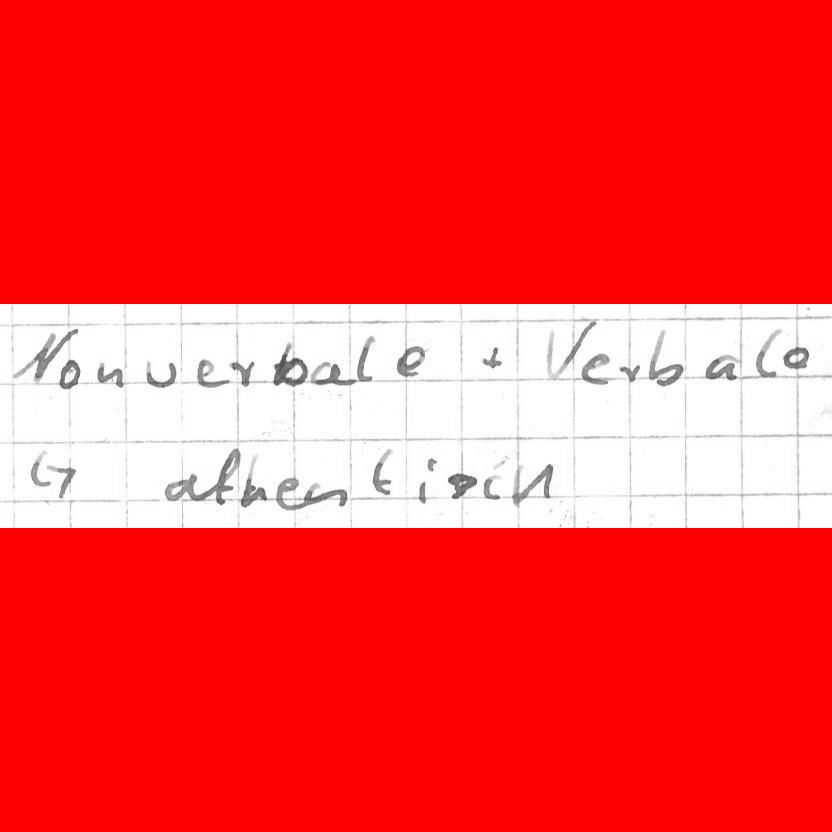Char: (8, 325, 64, 383), (22, 447, 82, 501), (541, 320, 586, 384), (645, 326, 687, 388), (507, 461, 555, 508), (237, 453, 270, 513), (270, 341, 305, 390), (158, 468, 205, 504), (752, 325, 783, 378), (302, 478, 346, 511), (370, 444, 396, 497), (355, 330, 379, 387), (308, 361, 355, 390), (193, 355, 228, 393), (579, 352, 614, 388), (703, 351, 741, 384), (443, 467, 478, 502), (415, 456, 440, 505), (394, 340, 426, 378), (144, 357, 182, 387), (95, 358, 127, 389), (55, 355, 81, 391), (274, 474, 300, 510), (780, 344, 812, 370), (478, 471, 503, 502), (228, 360, 256, 387), (480, 343, 505, 373), (618, 359, 644, 383)
